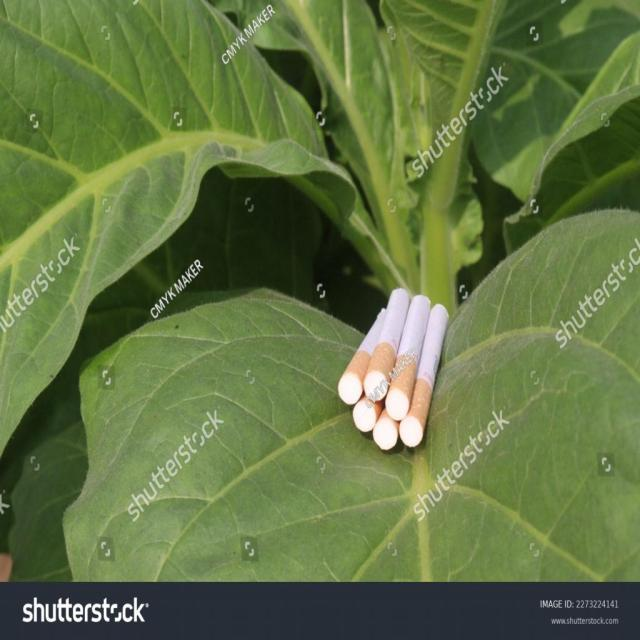smoking: (327, 279, 454, 457)
